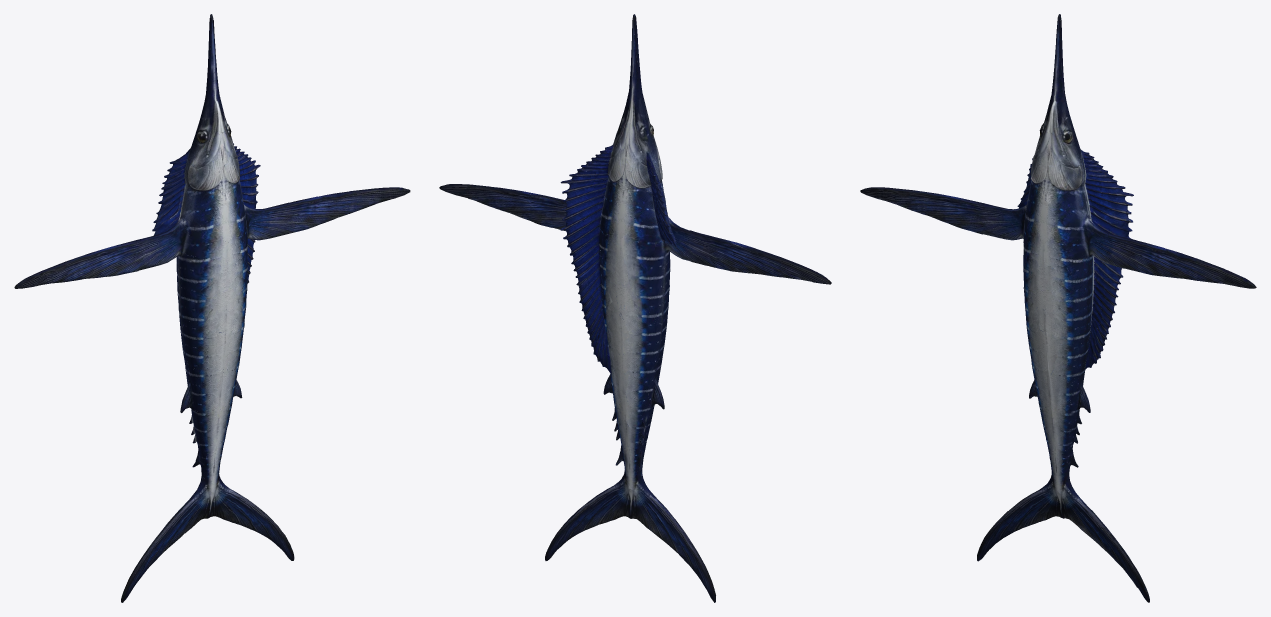
Rendered from black-marlin.glb.
The picture shows the model from 3 angles, left to right: view 1: azimuth 30°, elevation 25°; view 2: azimuth 150°, elevation 25°; view 3: azimuth 330°, elevation 25°; orthographic projection.
Parts seen in each view (by area): view 1: Mesh_0; view 2: Mesh_0; view 3: Mesh_0.
Part boxes in pixels (left/top/right/bottom): Mesh_0: left=14, top=14, right=410, bottom=602; Mesh_0: left=439, top=14, right=831, bottom=602; Mesh_0: left=860, top=14, right=1256, bottom=602.
Size of the model in its own units: 1.38 by 1.9 by 0.1829.
Materials: 1 (1 with a texture image).
